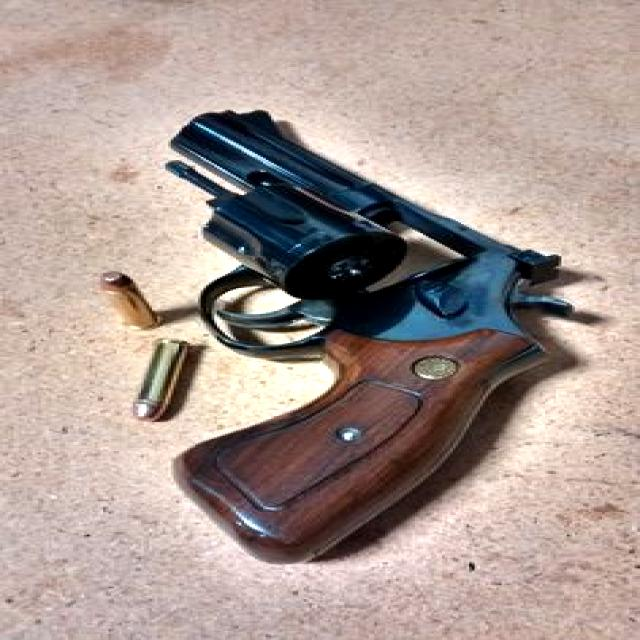revolver: (37, 58, 640, 586)
